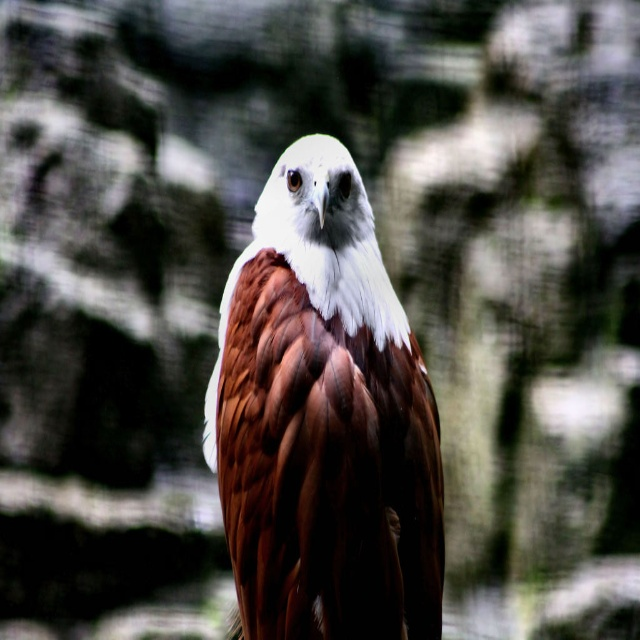Eagle: (200, 127, 449, 639)
